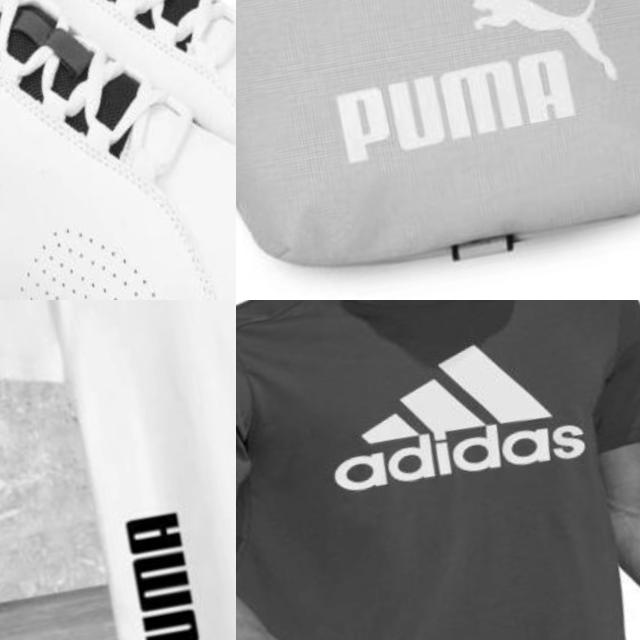ADIDAS_original: (302, 308, 608, 520)
PUMA_original: (291, 0, 640, 178), (115, 481, 223, 640)
